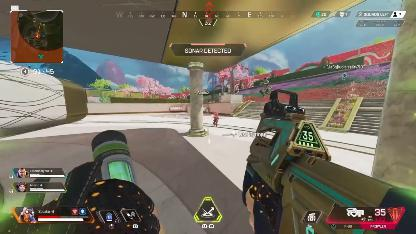Target: (260, 76, 268, 96), (213, 111, 219, 125)
